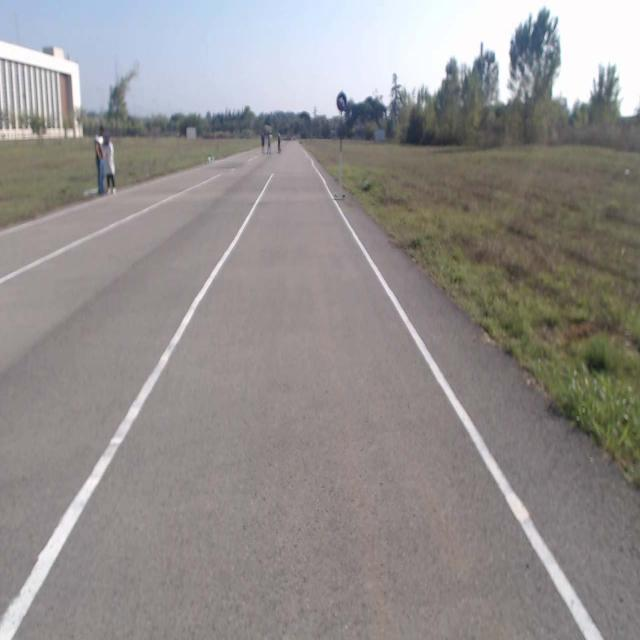sol: (337, 92, 347, 111)
